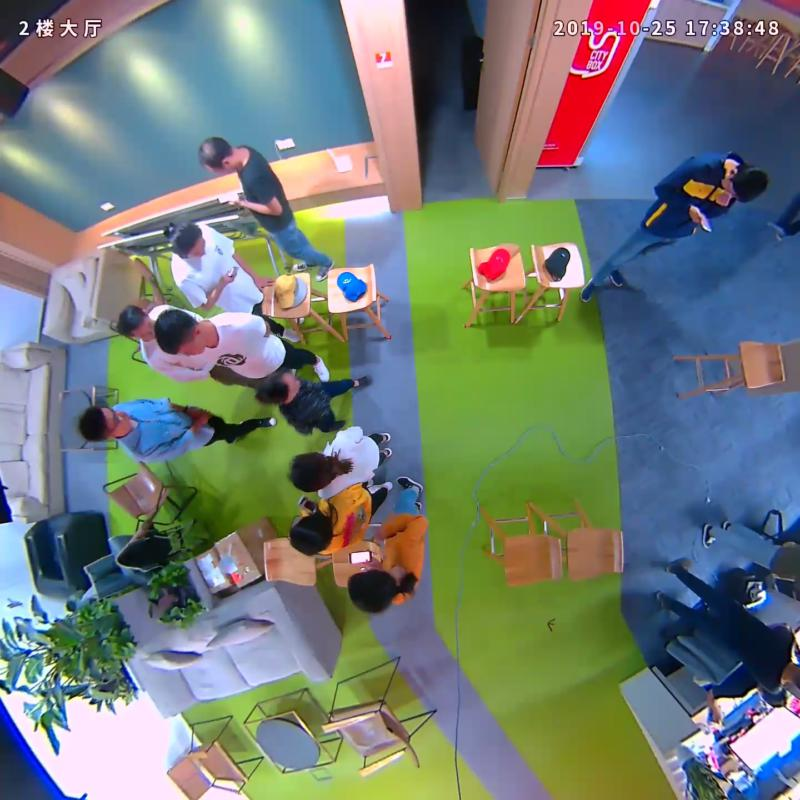head: (345, 569, 398, 616), (153, 308, 205, 355), (79, 405, 133, 442), (287, 451, 335, 492), (290, 511, 333, 556), (720, 166, 769, 203), (115, 304, 158, 343), (197, 135, 237, 175), (258, 370, 301, 405), (169, 221, 206, 261)
